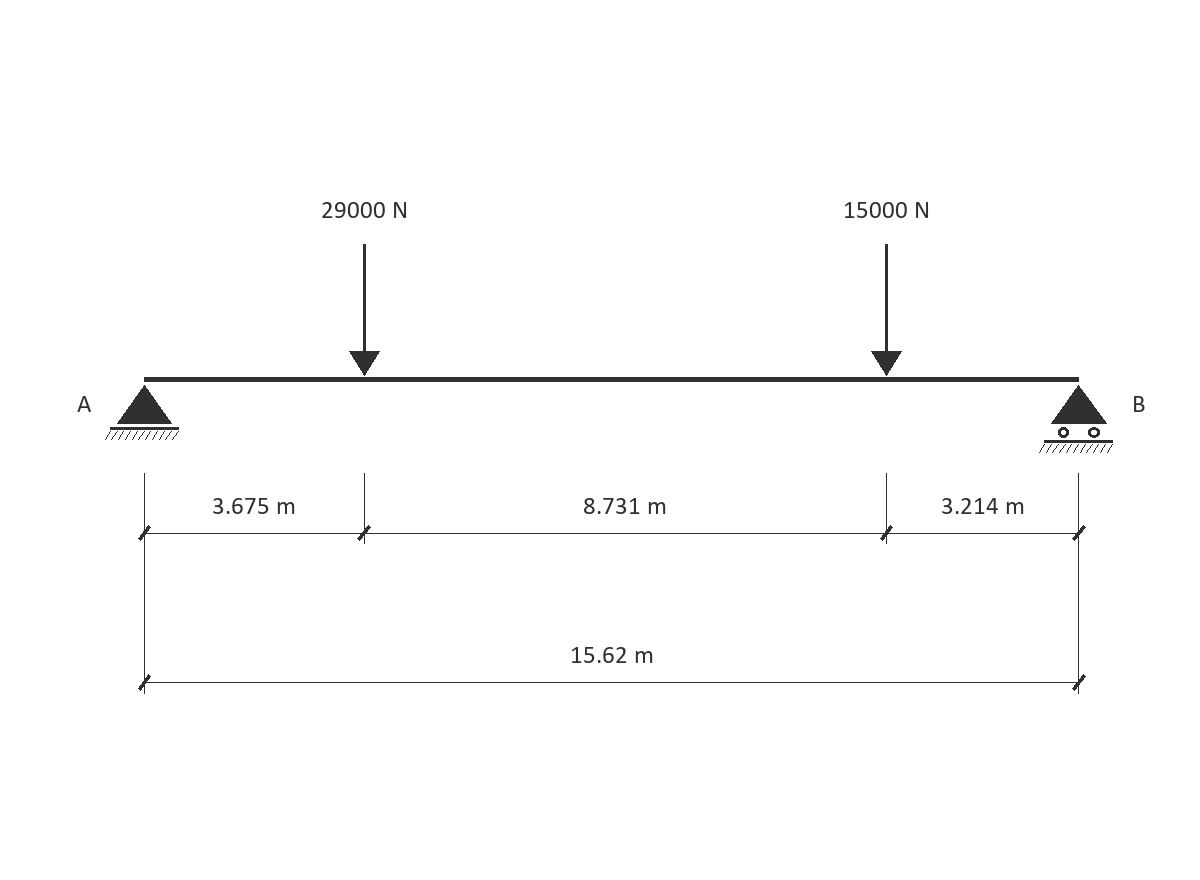pin_support: (105, 385, 179, 440)
point_load: (349, 244, 380, 376), (871, 244, 902, 376)
roller_support: (1039, 385, 1113, 453)
